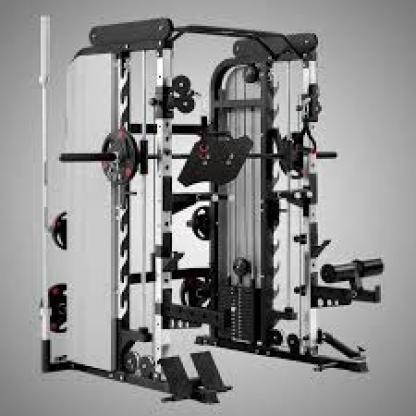smith machine: (39, 14, 386, 407)
